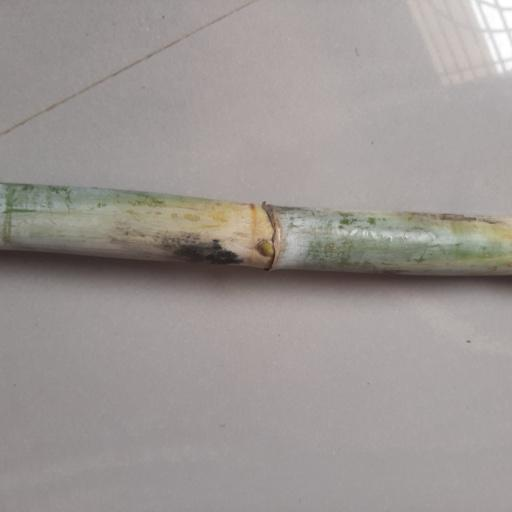Bud: (256, 240, 276, 258)
